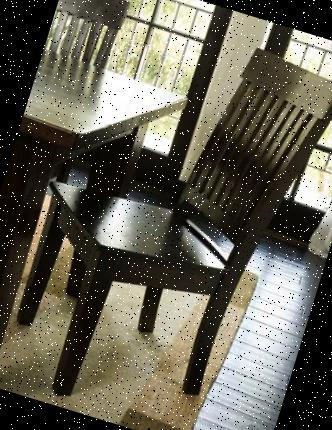Mesa: (0, 41, 192, 418)
Silla: (0, 3, 331, 429)
